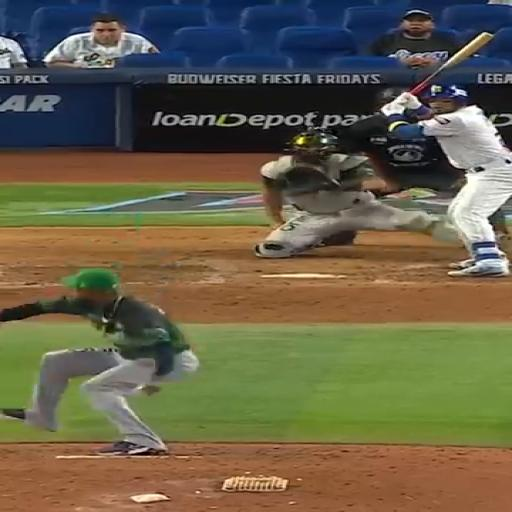bat: (410, 32, 493, 95)
